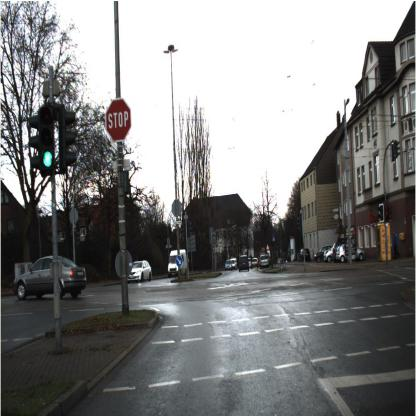mandatory: (173, 253, 185, 272)
other: (102, 92, 132, 144)
